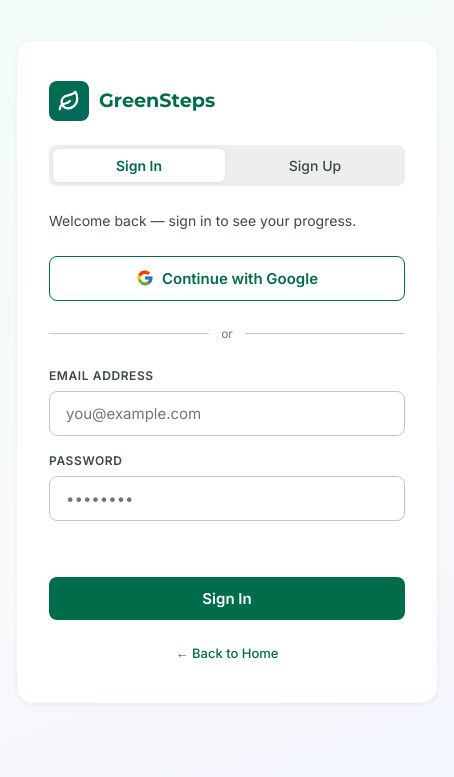
Test: Login page › shows error for missing name on signup
Click the tab "Sign Up".
click(315, 165)  # box [229,148,401,182]
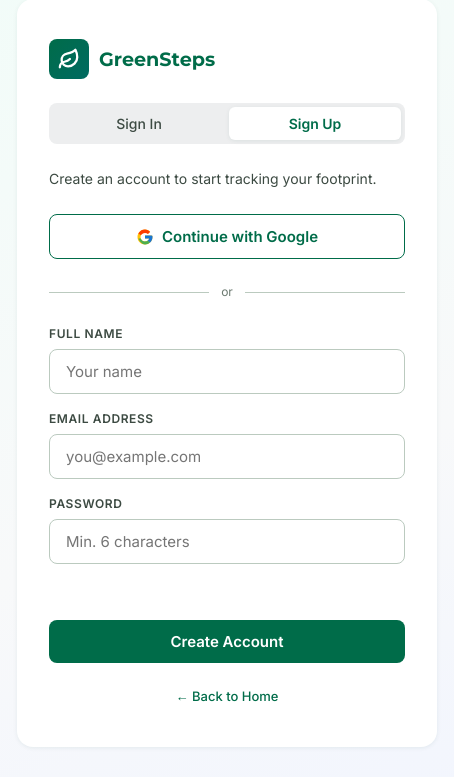
Type "a@b.com" into the field labelled "Email Address".
click(227, 457); type("a@b.com")  # box [49,434,405,479]
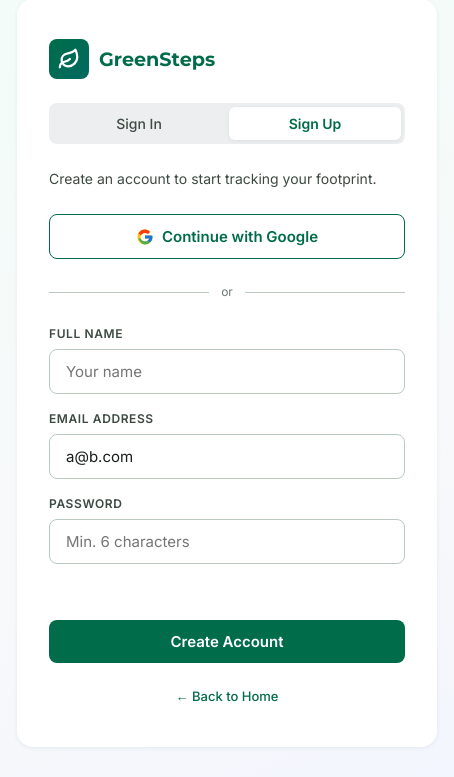
Type "pass123" into the password field labelled "Password".
click(227, 542); type("pass123")  # box [49,519,405,564]
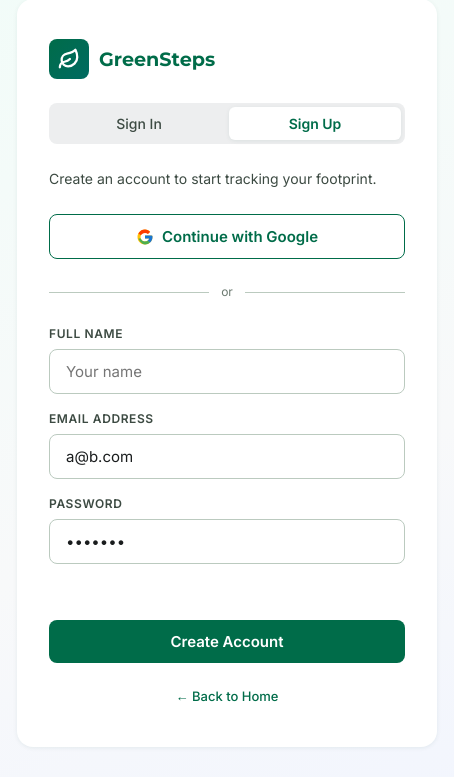
Submit the form, box [49,325,405,663]
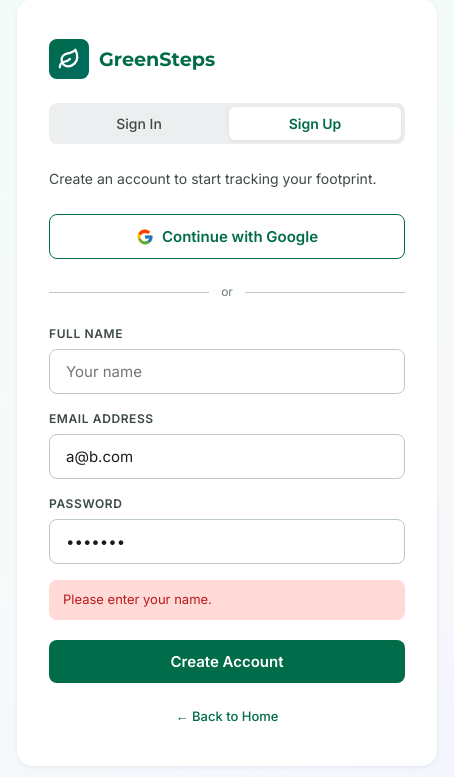
Expected: the message shows "enter your name", [63,591,212,607]
